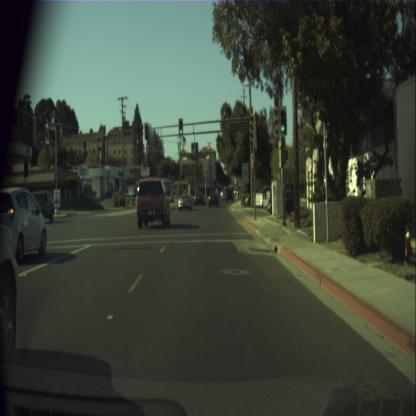Green: (280, 110, 286, 134), (178, 118, 183, 134)
